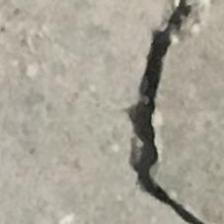Crack: (114, 0, 224, 216)
